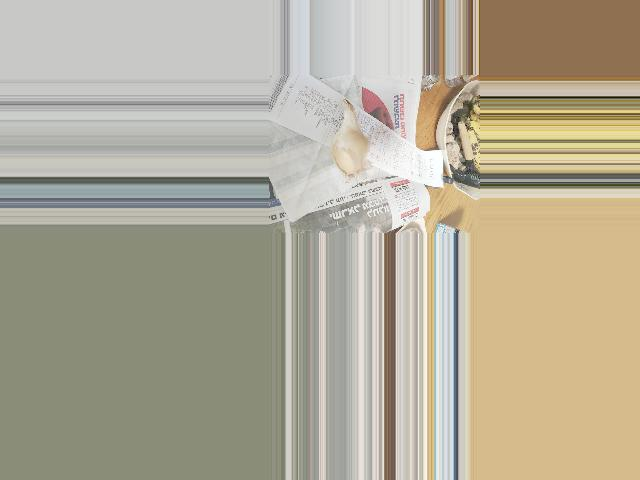onion: (330, 108, 371, 176)
